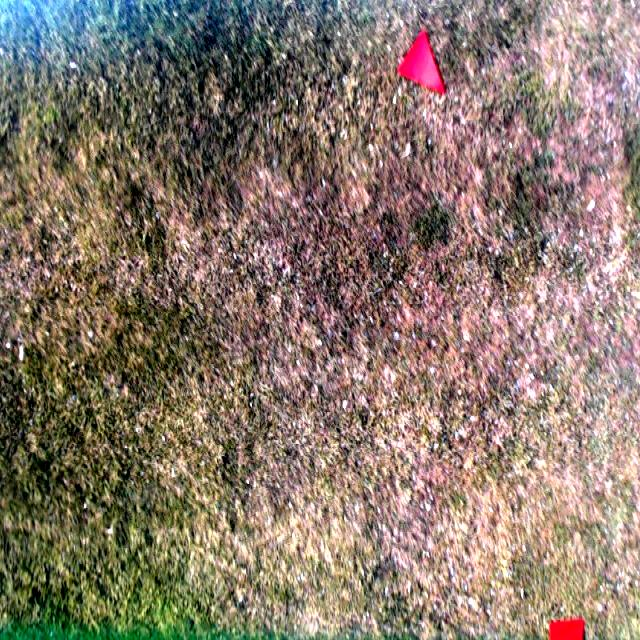red_triangle: (398, 30, 443, 96)
